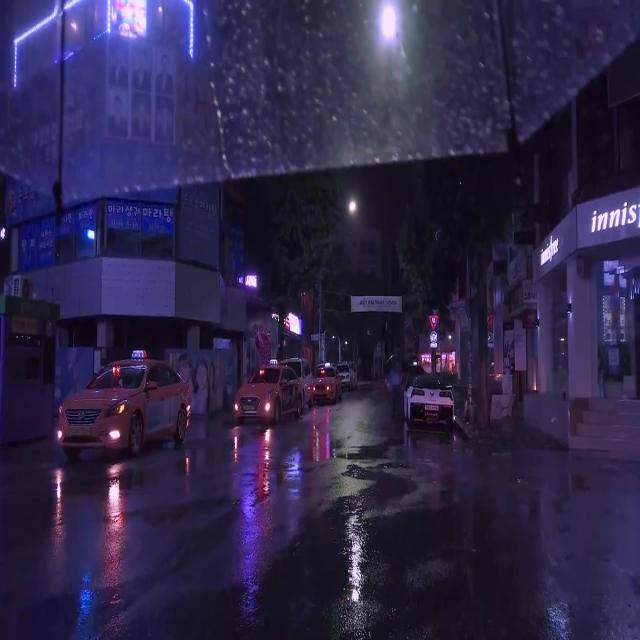Car: (58, 364, 189, 460), (232, 362, 304, 426)
